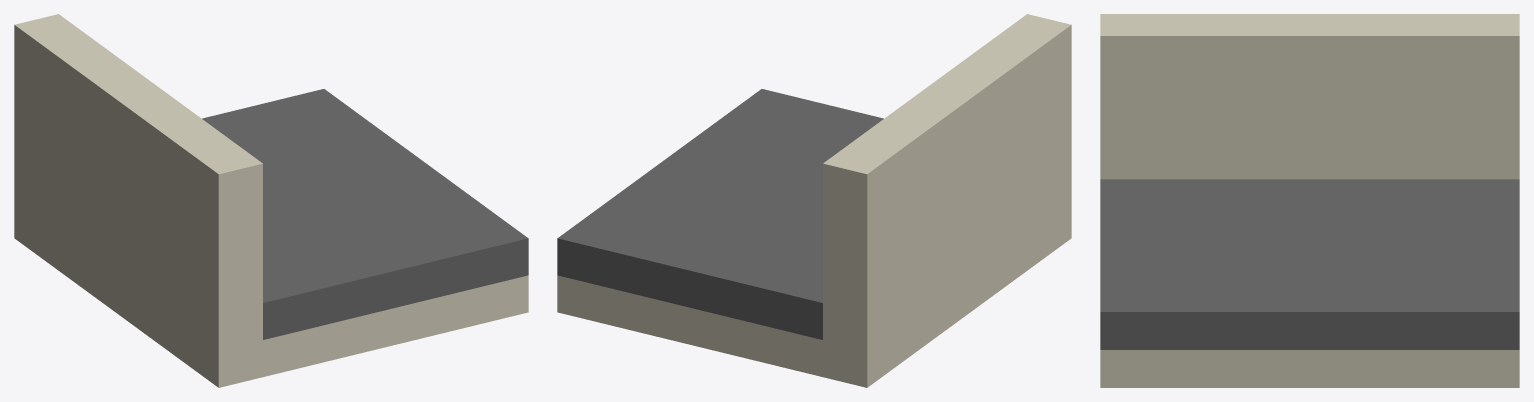
Rendered from tile268.dae.
3 views of the same model, side by side, from view 1: azimuth 30°, elevation 25°; view 2: azimuth 150°, elevation 25°; view 3: azimuth 270°, elevation 25° (orthographic). The views are drawn at different scales.
Parts seen in each view (by area): view 1: tile268; view 2: tile268; view 3: tile268.
Boxes of the visible parts, x1,y1,x2,y2 form: tile268: [14, 14, 528, 387]; tile268: [557, 14, 1071, 387]; tile268: [1100, 14, 1519, 387].
Bounding box in the file's own units: 0.875 × 0.5767 × 1.
